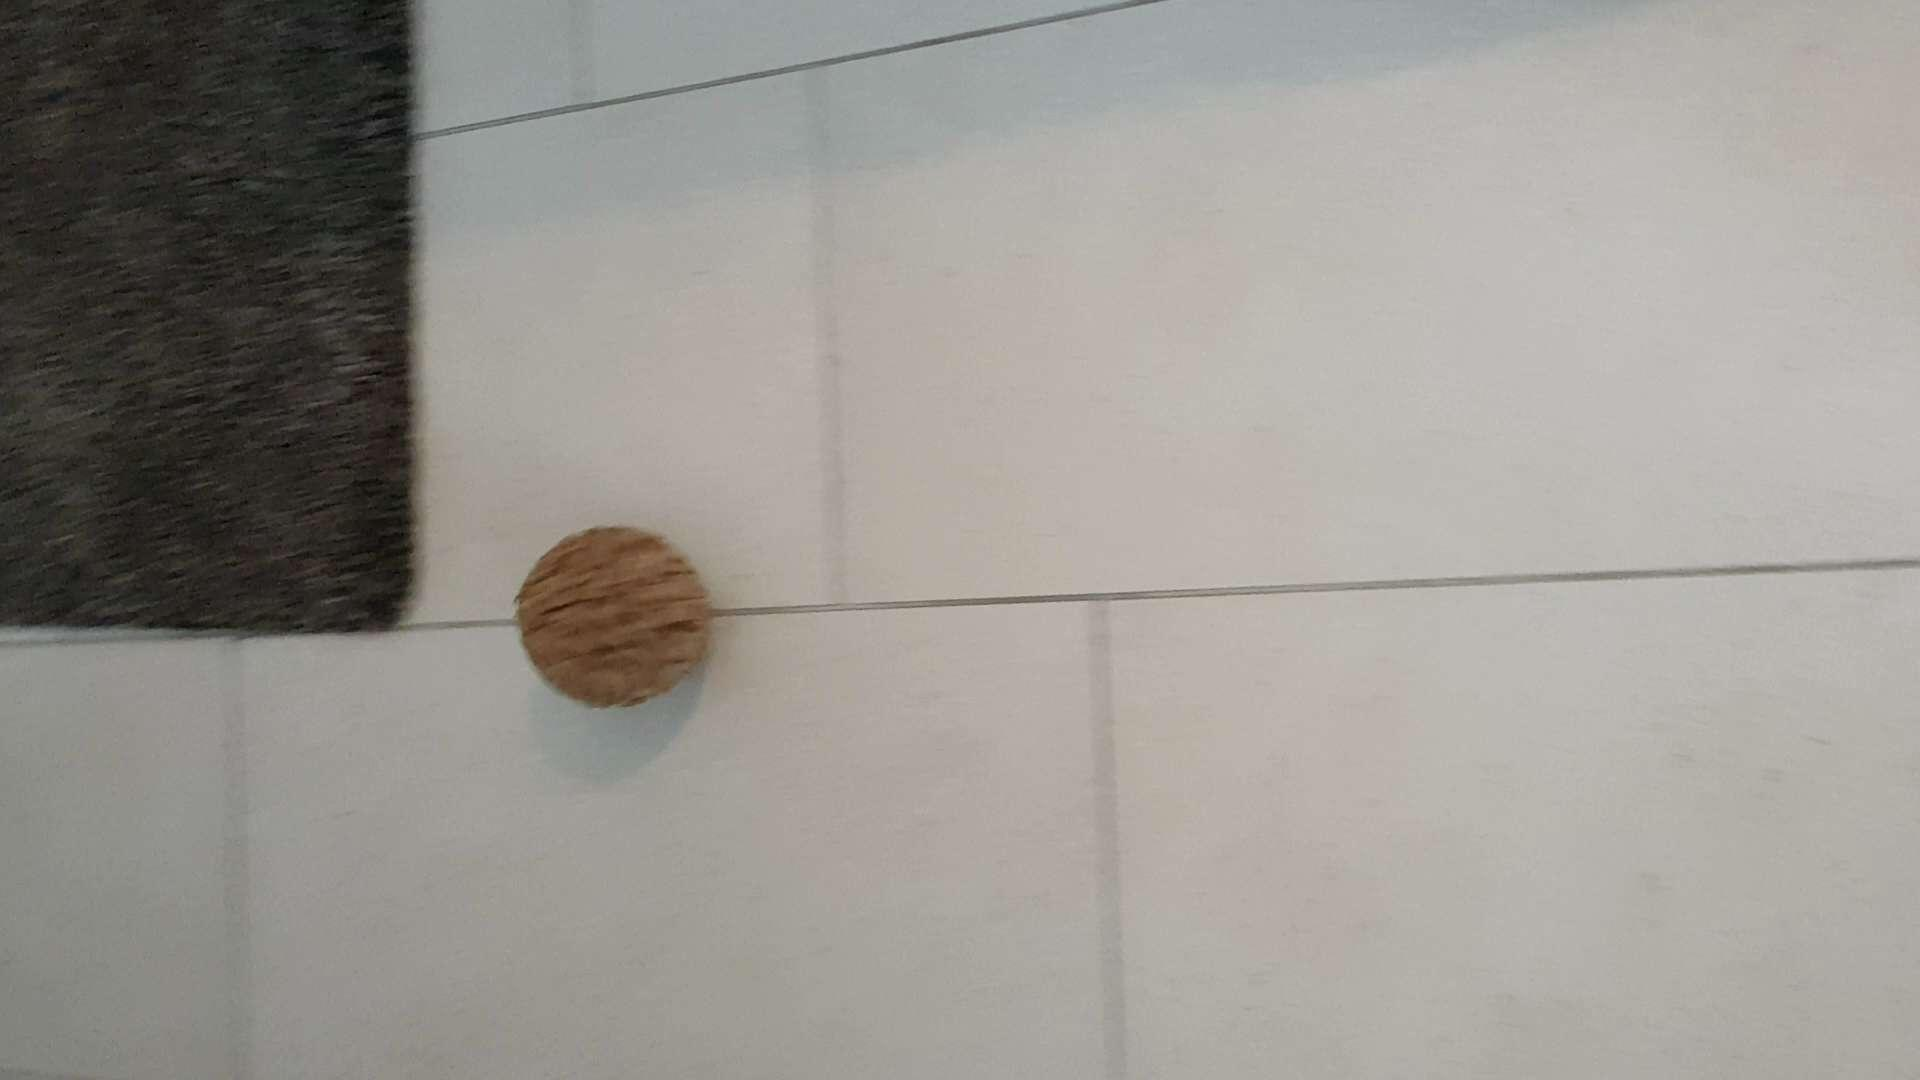sphere: (506, 530, 720, 705)
